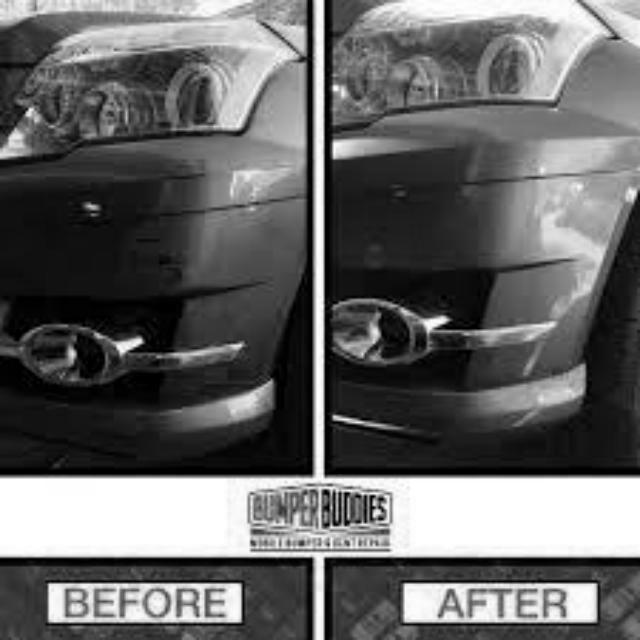front-bumper-dent: (1, 108, 328, 452)
